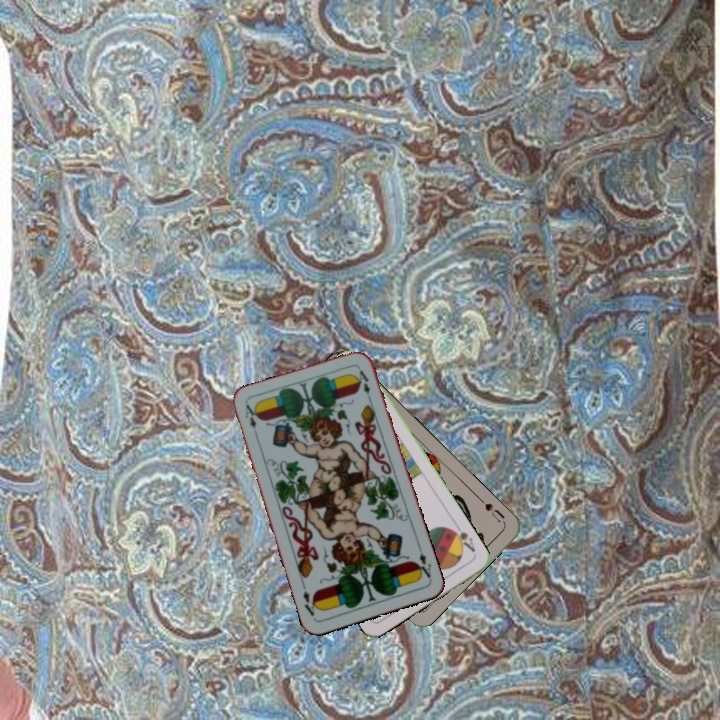EA: (241, 400, 261, 440), (412, 549, 434, 583)
SA: (446, 520, 478, 555)
SU: (475, 494, 507, 525)
